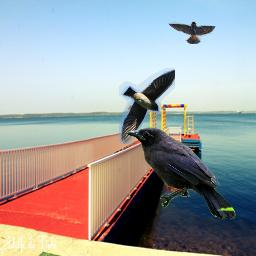Crow: (126, 127, 236, 220)
Swallow: (119, 68, 175, 144), (167, 21, 216, 44)
